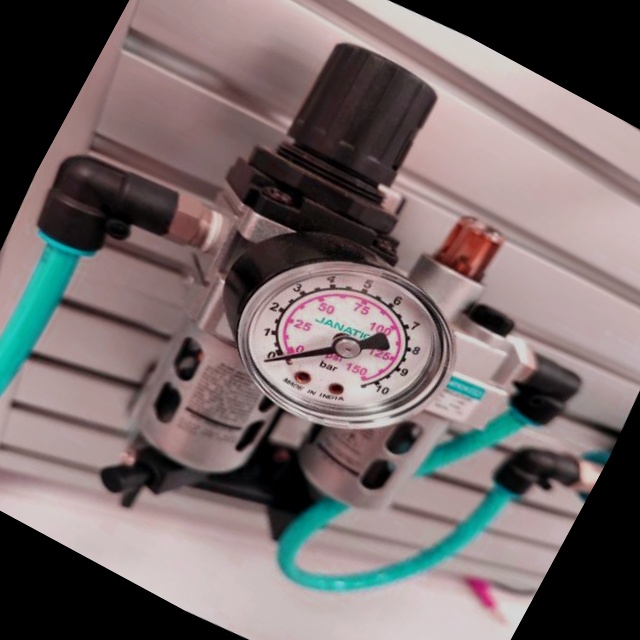FRL unit: (0, 0, 640, 640)
push button: (174, 182, 498, 483)
